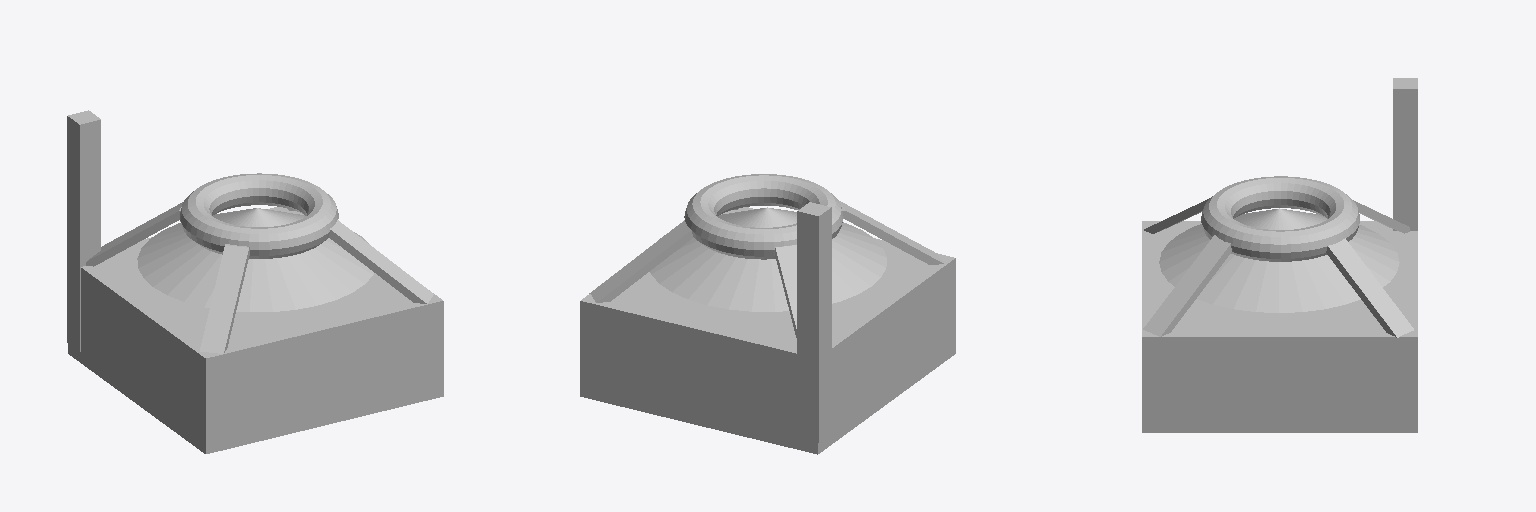
Rendered from enariasAltar1.obj.
The picture shows the model from 3 angles: view 1: azimuth 30°, elevation 25°; view 2: azimuth 150°, elevation 25°; view 3: azimuth 270°, elevation 25°; orthographic projection.
Visible parts, largest first — view 1: 4, 2, 1, 5, 7, 3; view 2: 4, 2, 1, 5, 7, 6; view 3: 4, 2, 1, 5, 3, 6, 7.
Boxes of the visible parts, <box> form: 4: <box>68,207,443,453</box>; 2: <box>137,208,373,311</box>; 1: <box>180,173,338,258</box>; 5: <box>67,110,100,351</box>; 7: <box>86,202,249,353</box>; 3: <box>329,220,433,303</box>; 4: <box>580,207,955,454</box>; 2: <box>650,207,886,311</box>; 1: <box>684,174,843,259</box>; 5: <box>797,202,831,442</box>; 7: <box>775,201,943,337</box>; 6: <box>589,220,693,302</box>; 4: <box>1142,221,1417,432</box>; 2: <box>1159,208,1399,312</box>; 1: <box>1201,176,1359,261</box>; 5: <box>1393,78,1417,230</box>; 3: <box>1143,235,1231,336</box>; 6: <box>1326,238,1413,337</box>; 7: <box>1144,198,1409,233</box>.
Bounding box in the file's own units: 1.11 × 1.05 × 1.1.